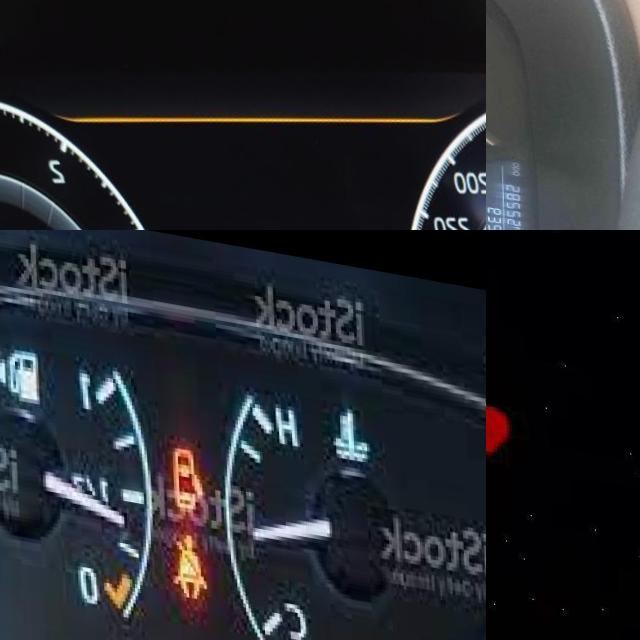Seat Belt: (163, 519, 210, 589)
